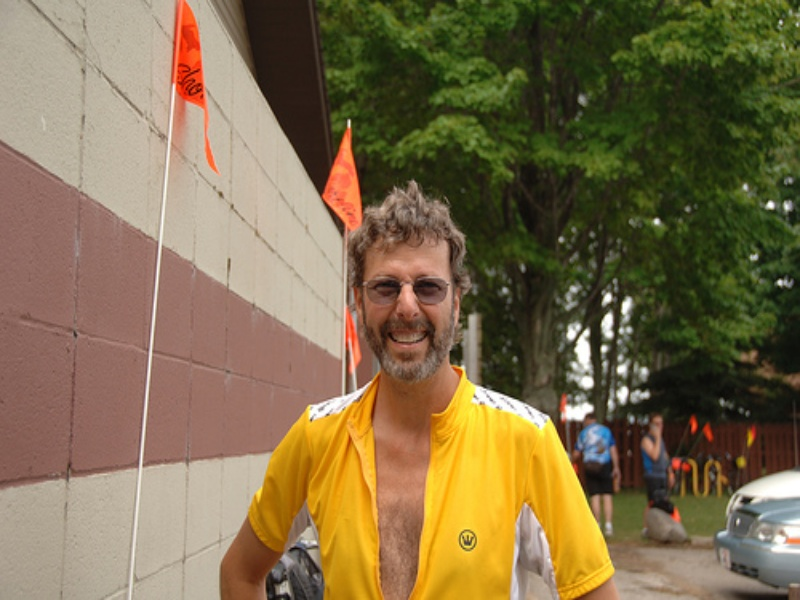car: (713, 496, 800, 589)
person: (218, 181, 619, 600), (573, 414, 621, 535), (640, 412, 675, 514)
